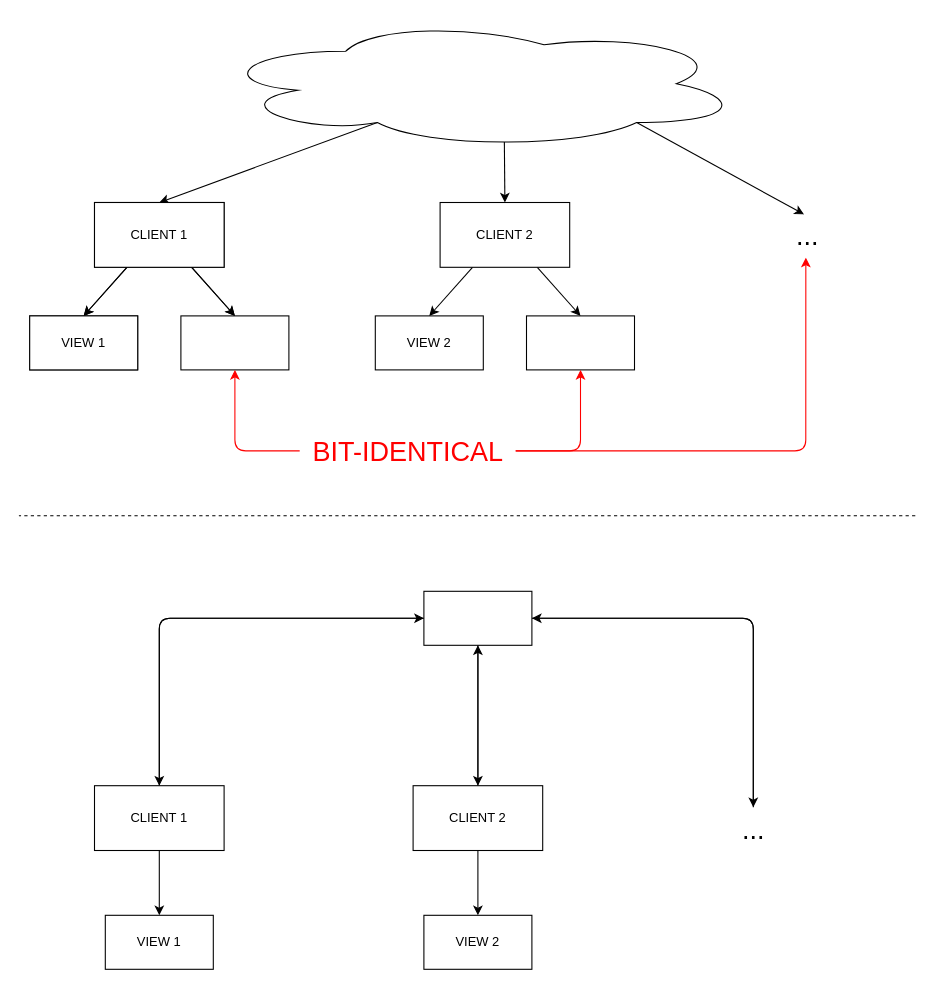
This 935x988 diagram has some shape labels left out. Here are the shapes that lost their labels. From the top down, the centre of each, then its label:
the point at 477,83: Reflector
the point at 234,342: MODEL 1
the point at 579,342: MODEL 2
the point at 477,617: MODEL
